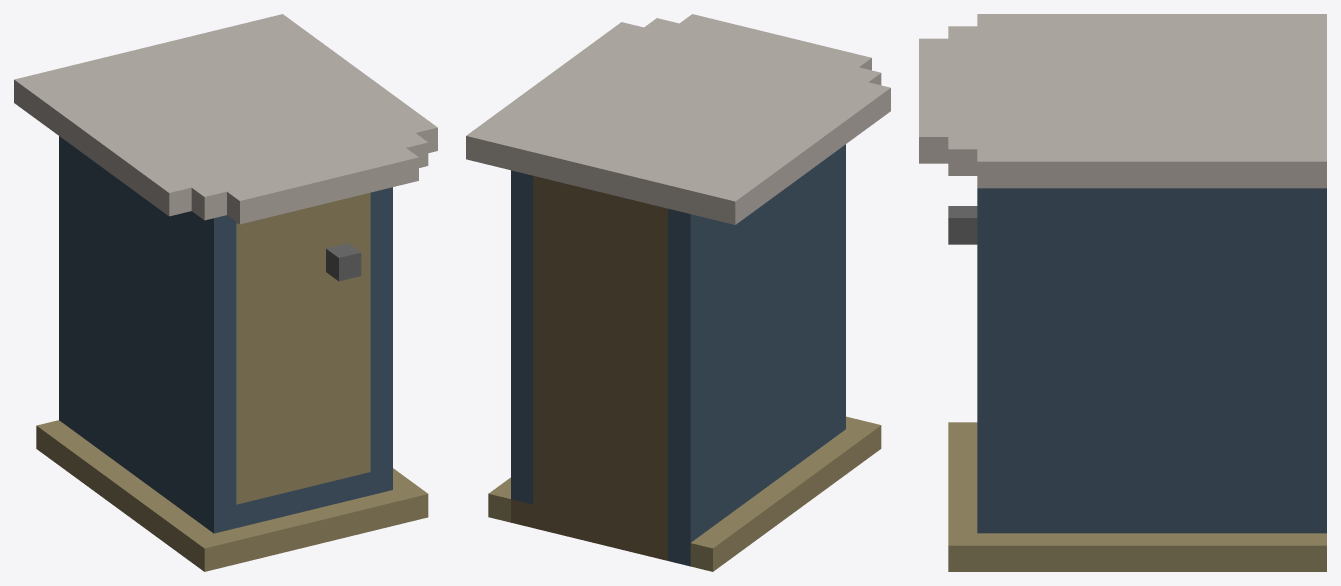
File: CounterCornerOut2.obj
3 renders of one model, left to right at view 1: azimuth 30°, elevation 25°; view 2: azimuth 150°, elevation 25°; view 3: azimuth 270°, elevation 25°, orthographic. The views are drawn at different scales.
Visible parts, largest first — view 1: CounterCornerOut2; view 2: CounterCornerOut2; view 3: CounterCornerOut2.
Part boxes in pixels (left/top/right/bottom): CounterCornerOut2: left=14, top=14, right=437, bottom=571; CounterCornerOut2: left=466, top=14, right=890, bottom=571; CounterCornerOut2: left=919, top=14, right=1326, bottom=571.
Size of the model in its own units: 12 by 16 by 14.
1 material, 1 textured.
